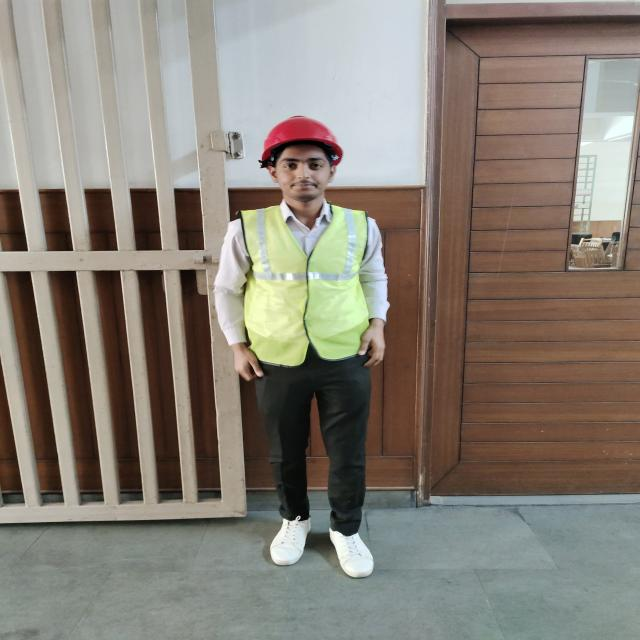safe: (212, 113, 386, 578)
